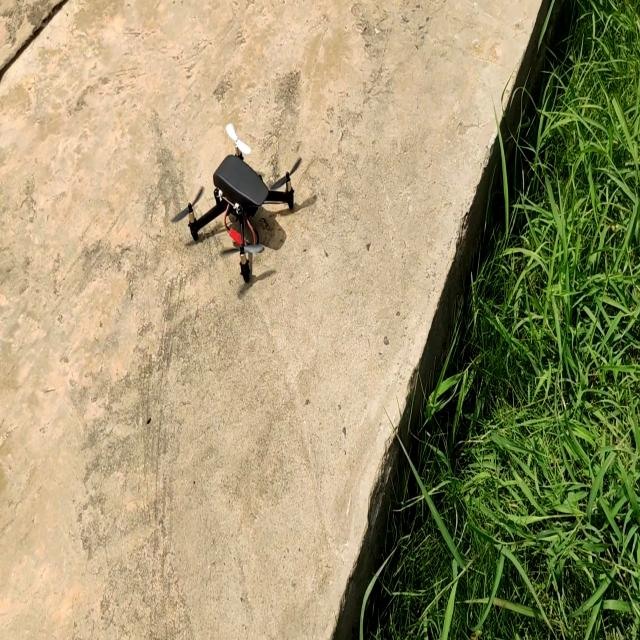drone: (165, 115, 316, 296)
